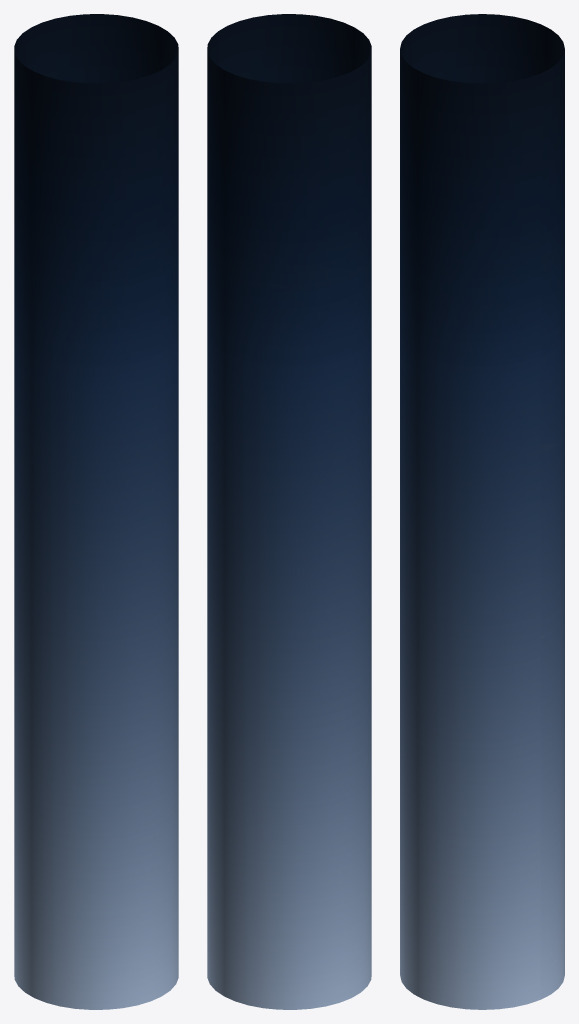
File: background.glb
3 renders of one model, left to right at view 1: azimuth 30°, elevation 25°; view 2: azimuth 150°, elevation 25°; view 3: azimuth 270°, elevation 25°, orthographic.
Visible parts, largest first — view 1: Cylinder; view 2: Cylinder; view 3: Cylinder.
Boxes of the visible parts, x1,y1,x2,y2 form: Cylinder: (14,14,178,1009); Cylinder: (207,14,371,1009); Cylinder: (400,14,564,1009).
Bounding box in the file's own units: 63.66 × 394 × 63.66.
Materials: 1 (1 with a texture image).
